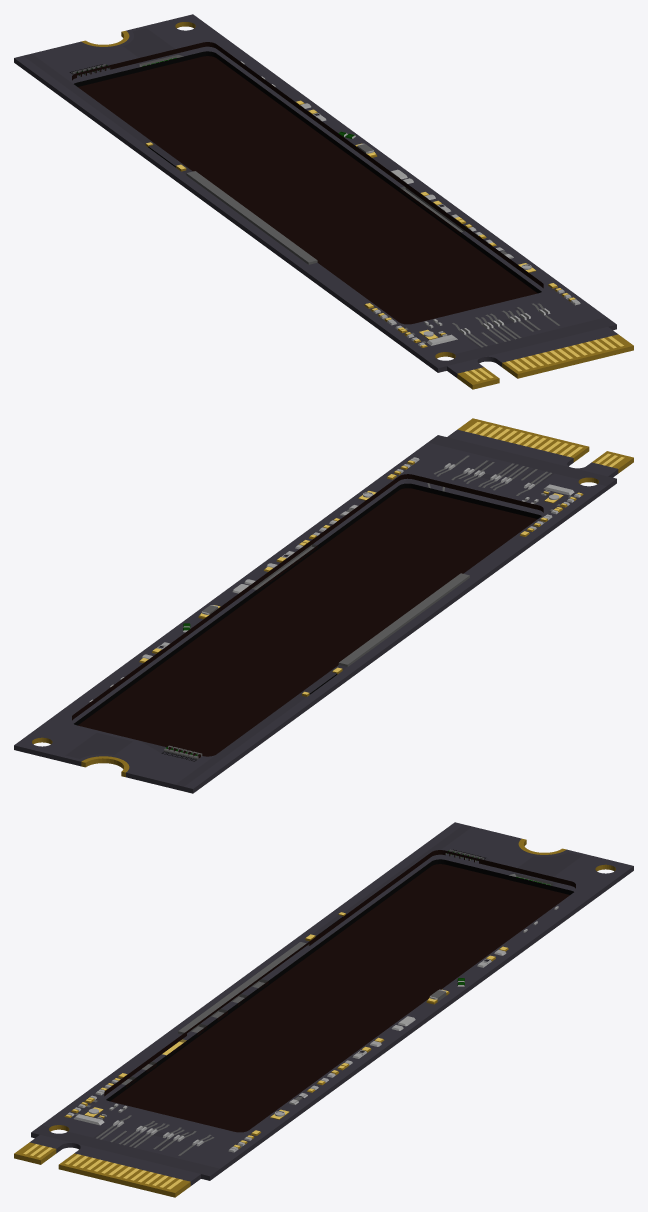
The model's file is nochamlSSD.glb.
3 views of the same model, one above another, from view 1: azimuth 30°, elevation 25°; view 2: azimuth 150°, elevation 25°; view 3: azimuth 330°, elevation 25° (orthographic).
Visible parts, largest first — view 1: Plane; view 2: Plane; view 3: Plane.
Boxes of the visible parts, x1=… form: Plane: x1=14, y1=14, x2=633, y2=389; Plane: x1=14, y1=418, x2=633, y2=793; Plane: x1=14, y1=822, x2=633, y2=1197.
Bounding box in the file's own units: 20 × 1.5 × 87.
